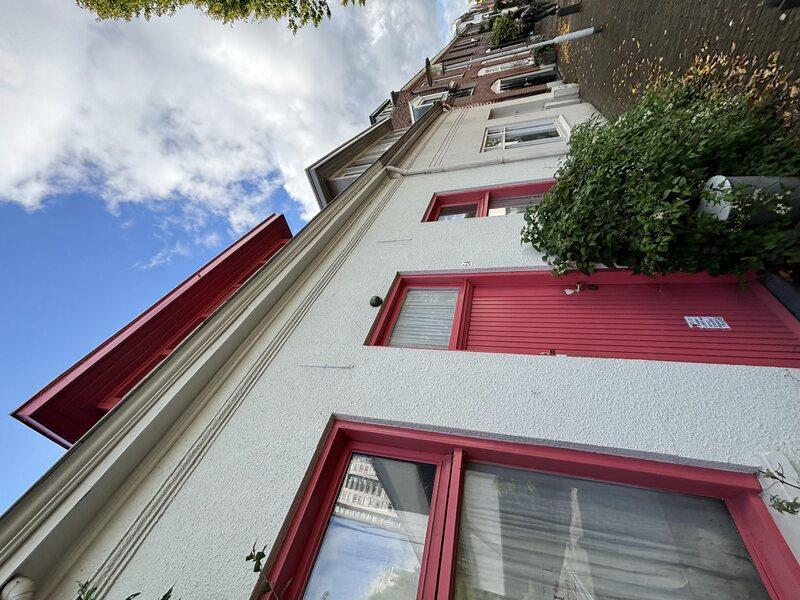dome: (290, 359, 309, 391)
